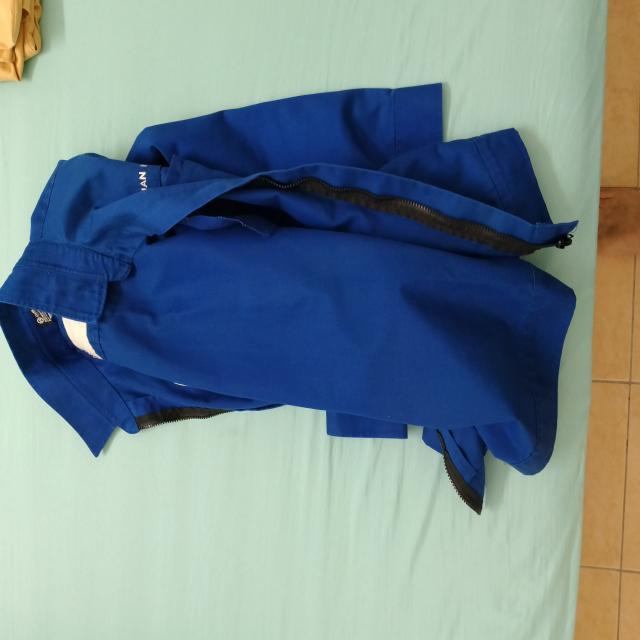person_without_labcoat: (0, 84, 576, 513)
